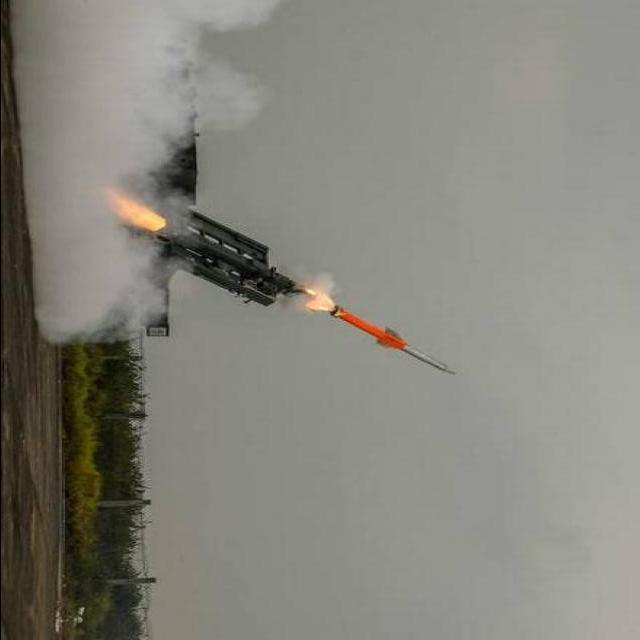missile: (330, 299, 465, 382)
